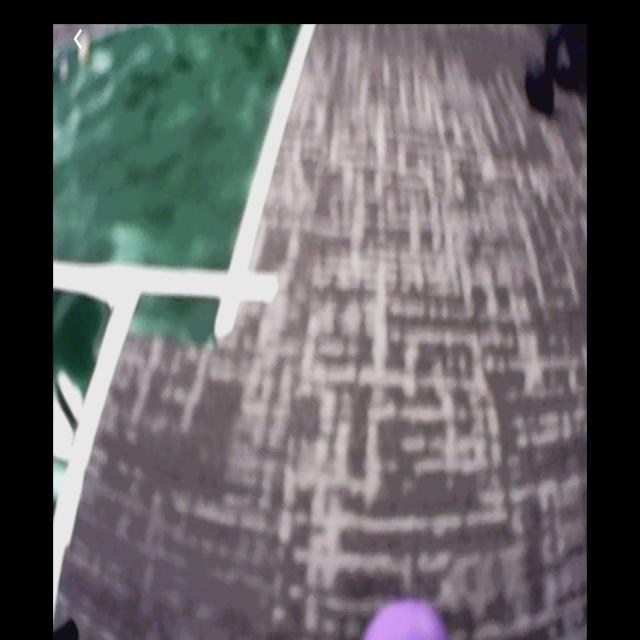ball: (363, 601, 448, 640)
